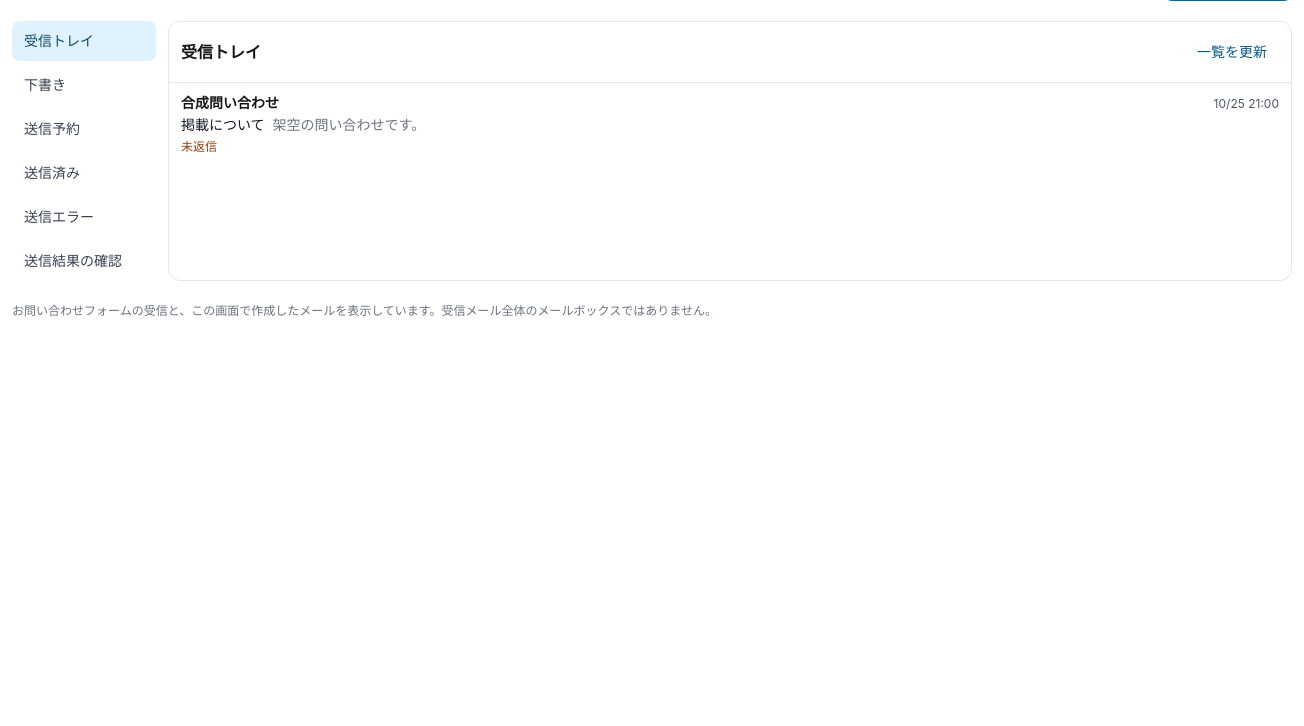
Test: one chronological thread includes incoming, legacy acceptance, internal notes and editable drafts
The image size is (1304, 726).
What coordinates should you click on to do the following:
click the button "合成問い合わせ"
I would click on:
 (230, 102)
Its box is [169, 83, 1291, 165].
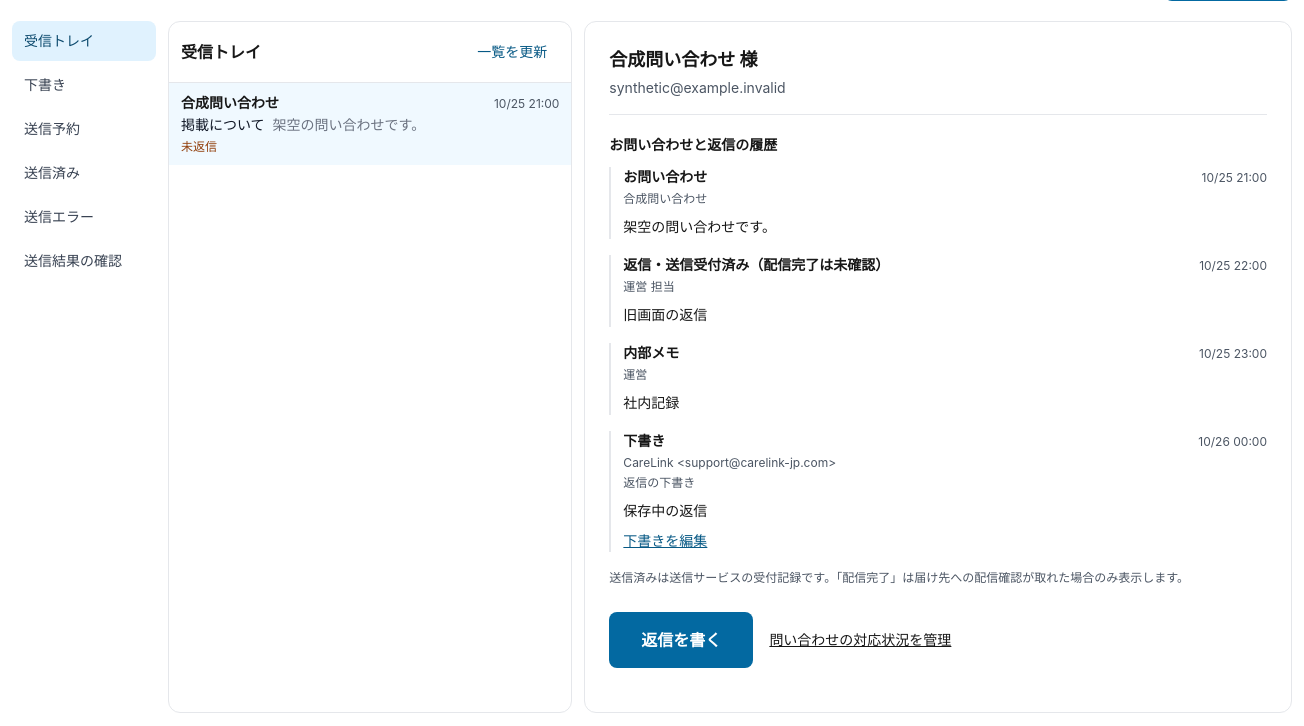
Expected: the text "旧画面の返信" is shown, [623, 306, 707, 323]
Expected: the text "運営 担当" is shown, [623, 279, 675, 294]
What coordinates should you click on to do the following:
click the button "下書きを編集"
I would click on:
 (665, 541)
Its box is [623, 531, 707, 551].
(page scrolled)
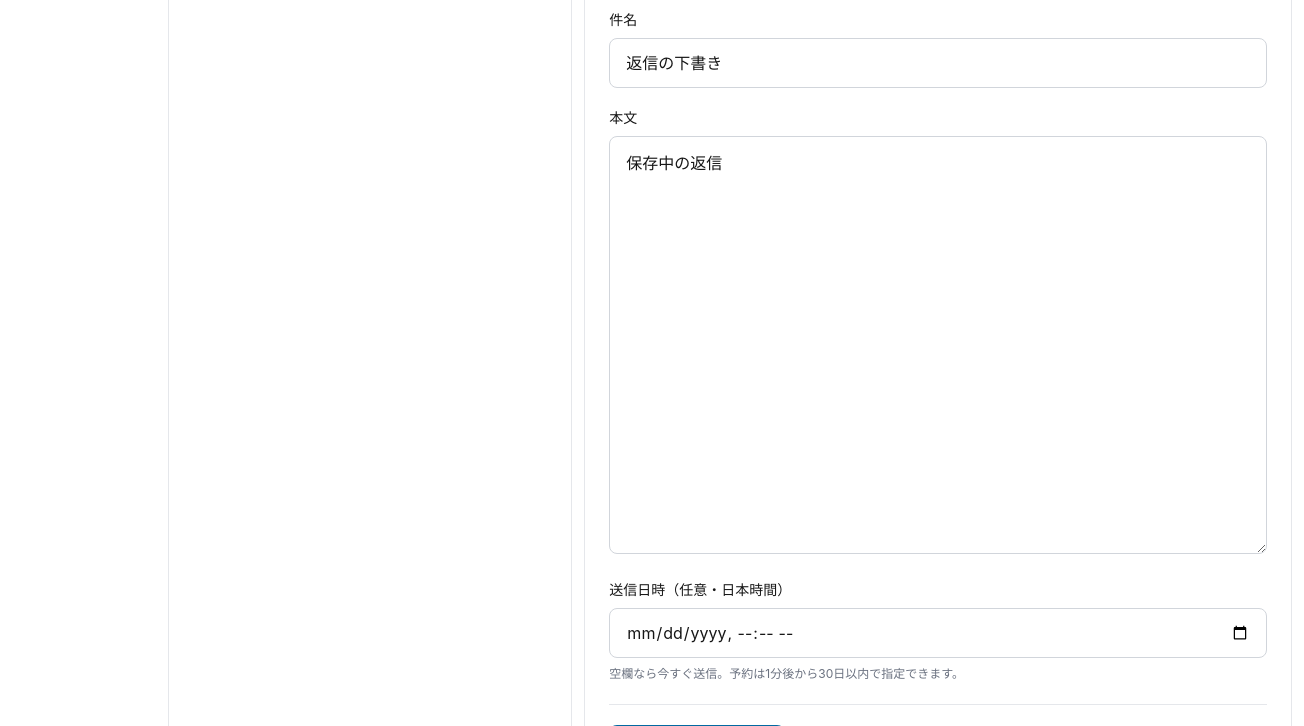
Expected: the text box labelled "本文" holds "保存中の返信", [609, 136, 1267, 554]
